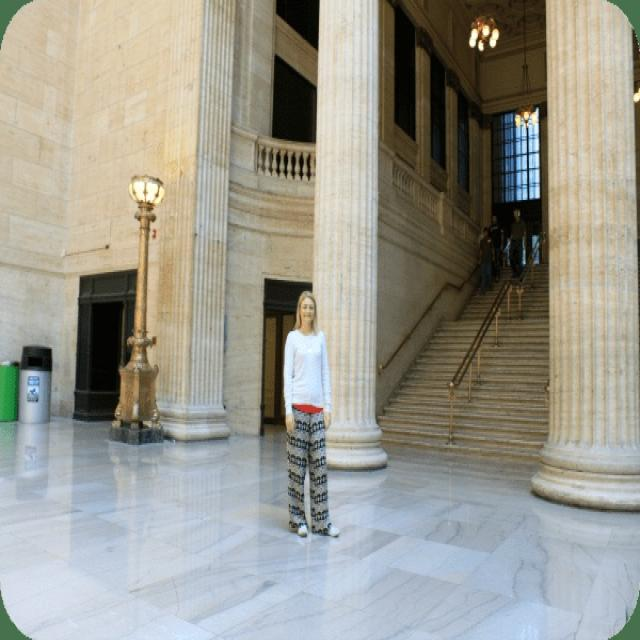body: (280, 286, 342, 541), (477, 224, 496, 296), (509, 206, 527, 282), (488, 214, 502, 284), (536, 228, 545, 266)
